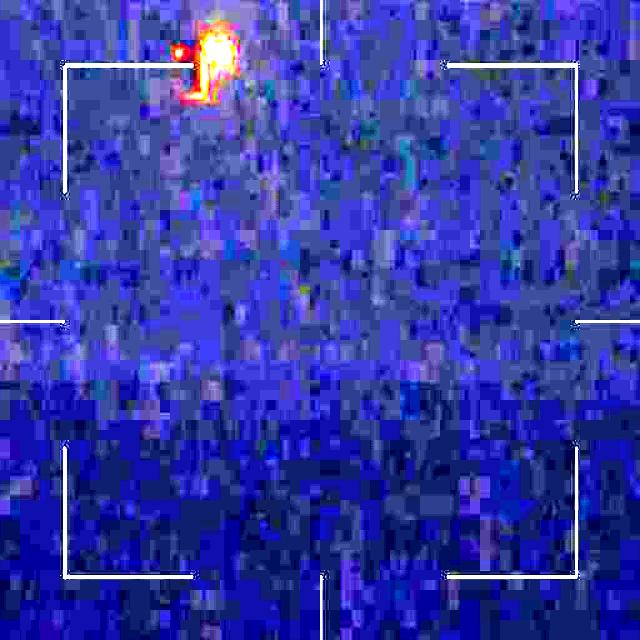bird: (155, 28, 235, 110)
